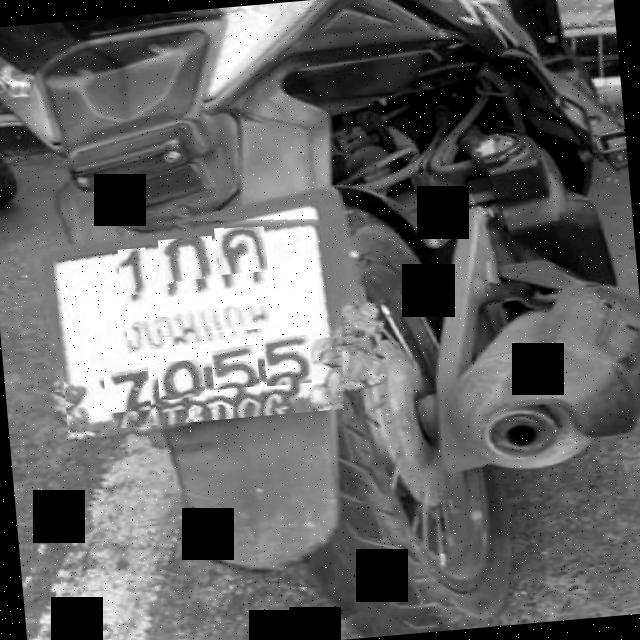letters: (158, 236, 216, 284), (262, 333, 314, 386), (214, 223, 268, 274), (102, 359, 151, 414), (210, 344, 260, 389), (156, 358, 206, 402), (117, 247, 149, 296)
license-plate: (53, 214, 346, 432)
province: (124, 300, 283, 340)
